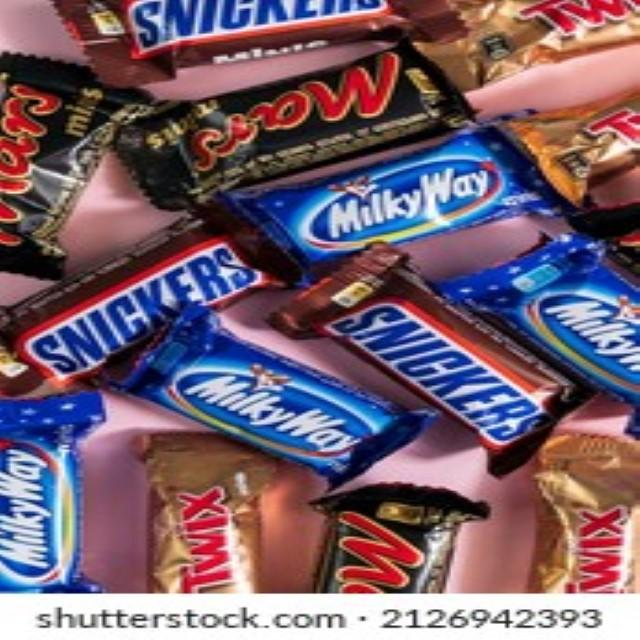mars_chocolate: (175, 32, 442, 182), (12, 57, 110, 273)
snickers_chocolate: (332, 270, 545, 450), (37, 225, 218, 388), (61, 0, 492, 50)
